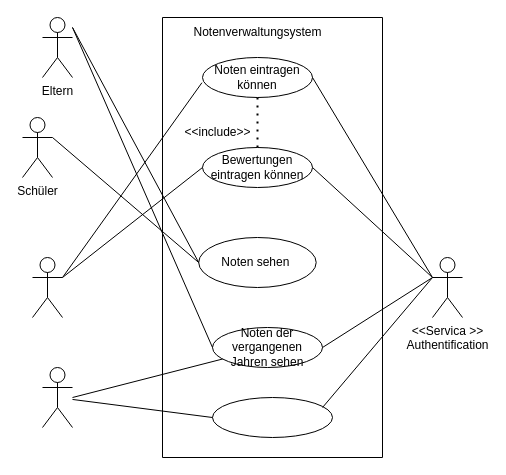
The diagram is 506 pixels wide and 475 high, and some of its shapes have lost their labels. The shapes that lost their labels are listed below. From the top down, each one's centre as x and y in pixels, then its label:
At (x=47, y=287): "Lehrer".
At (x=57, y=397): "Administrator".
At (x=272, y=417): "Noten generieren können".
